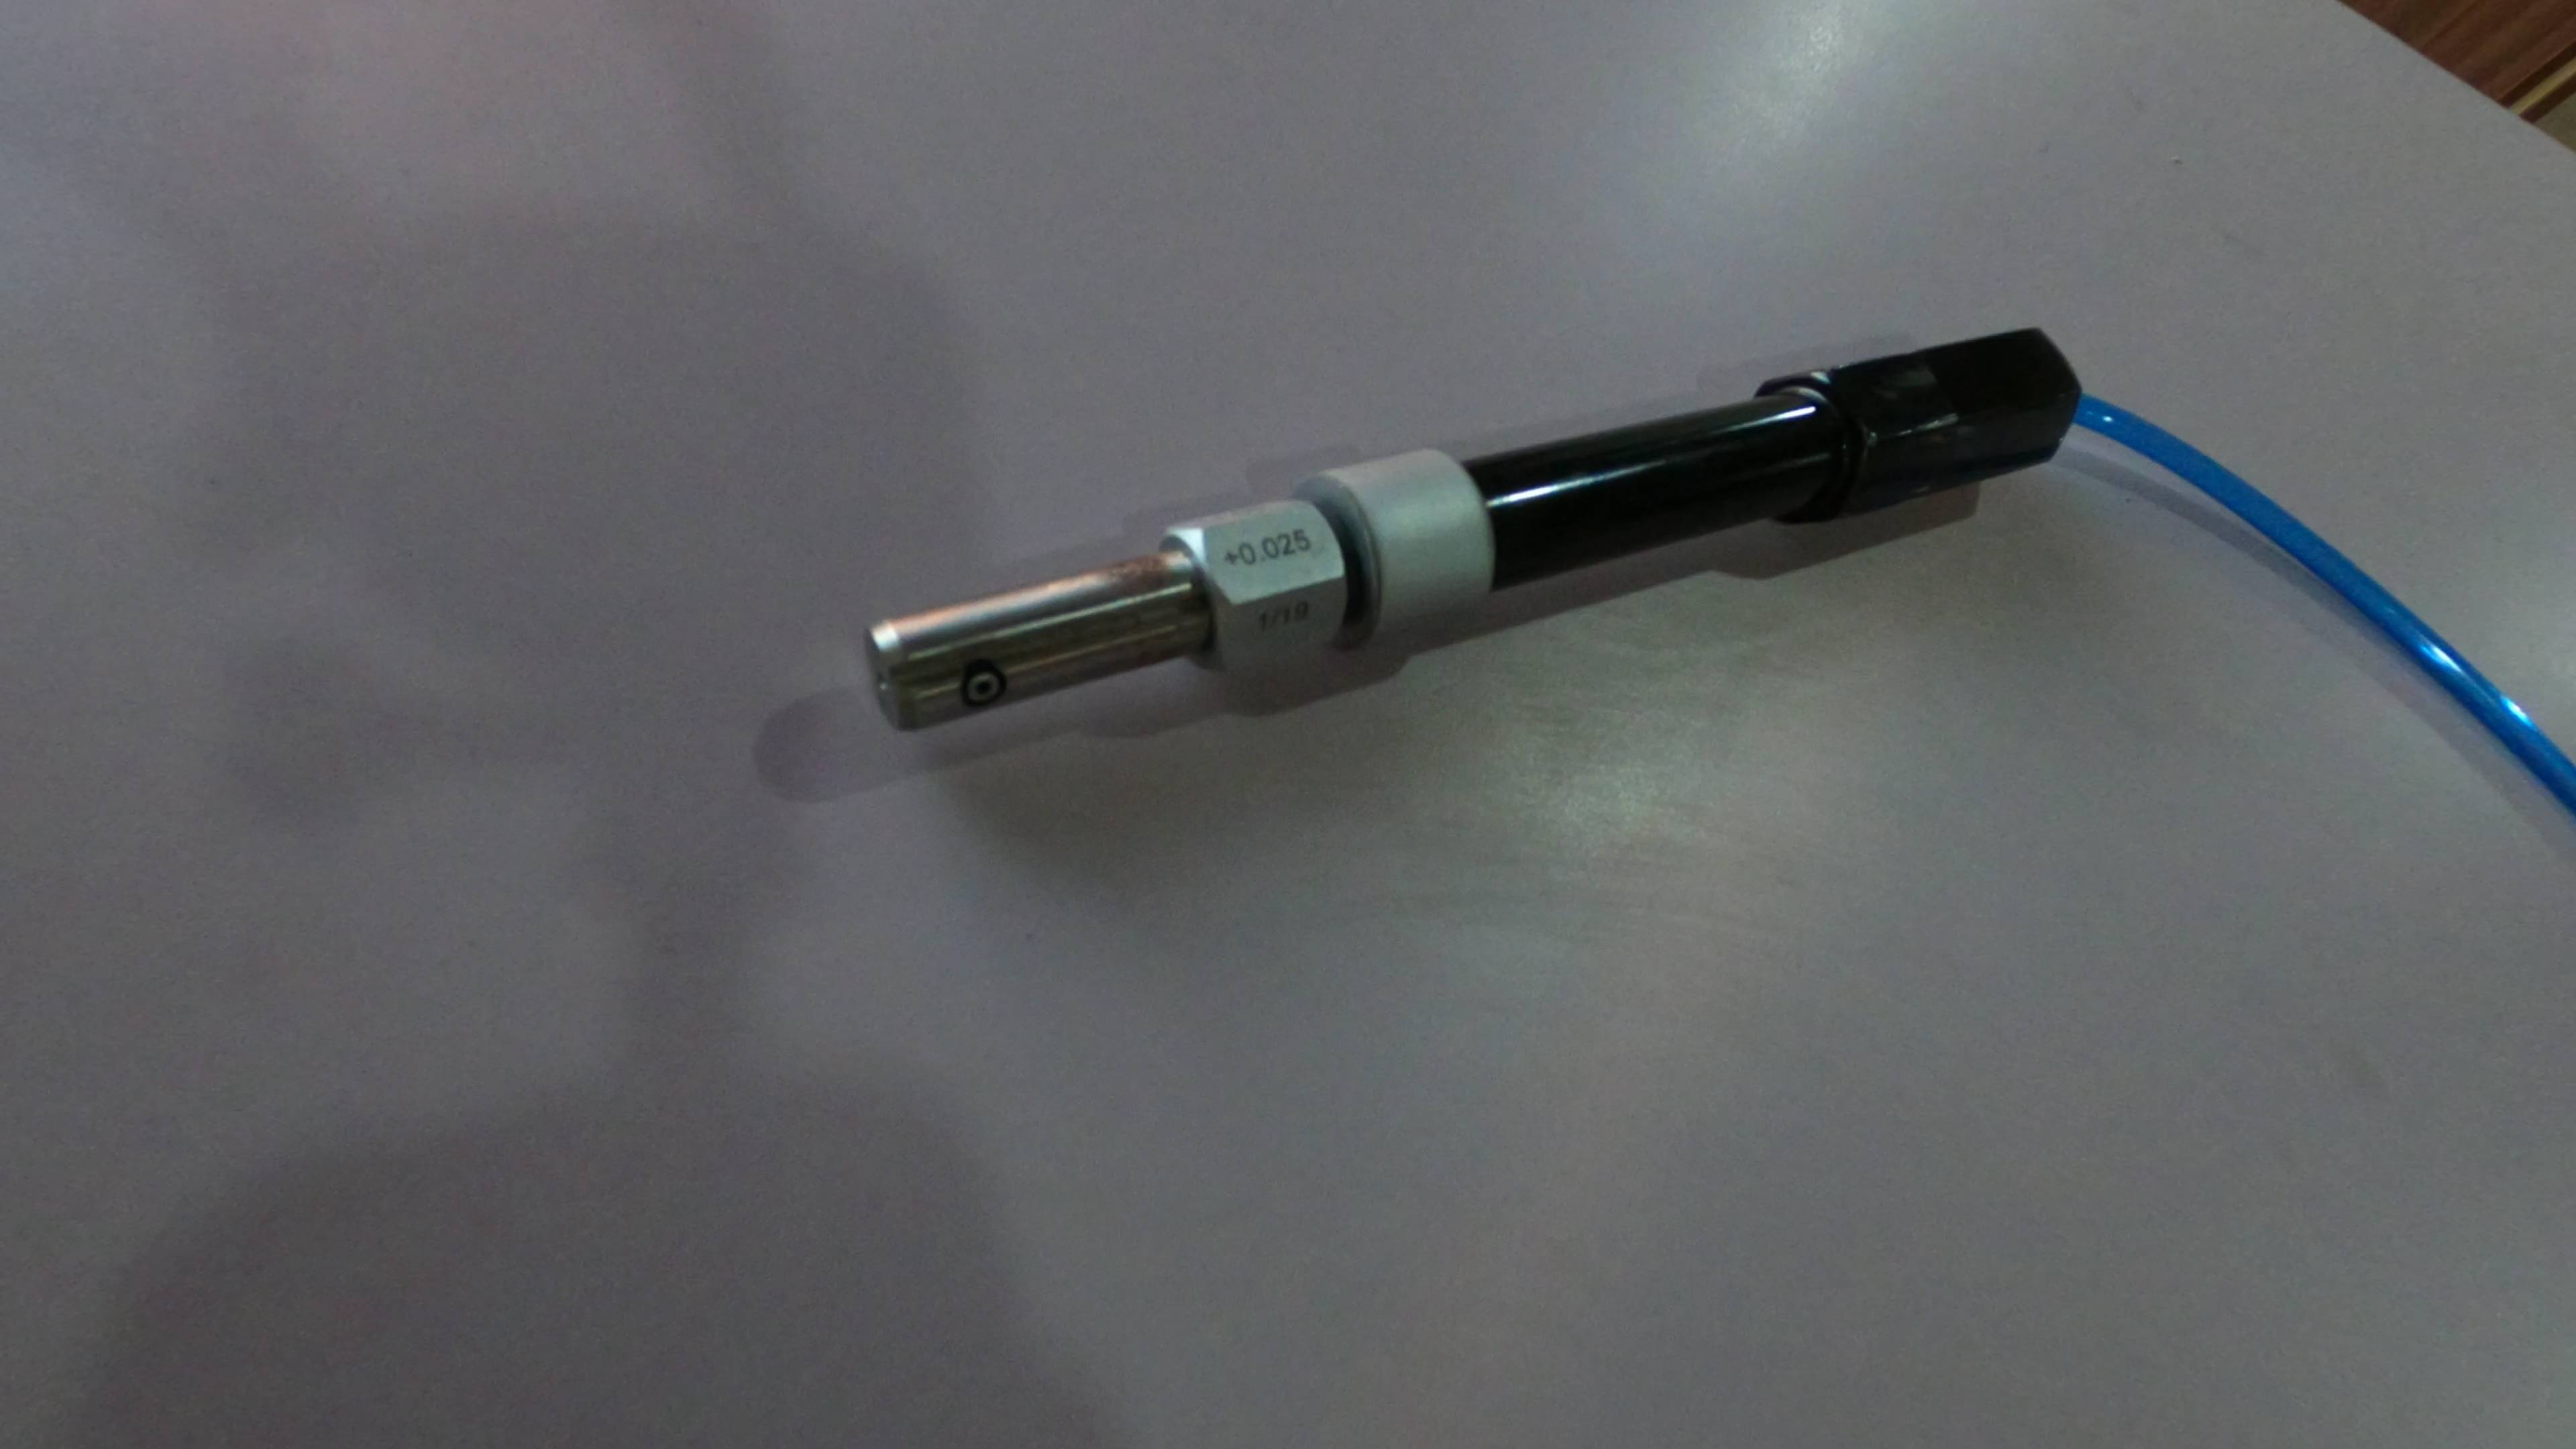air_gauge: (844, 318, 2081, 741)
